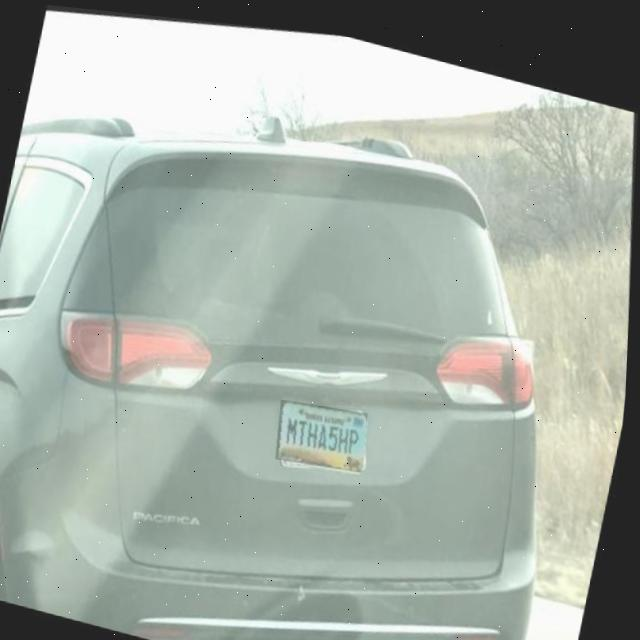LicensePlate: (279, 393, 371, 464)
